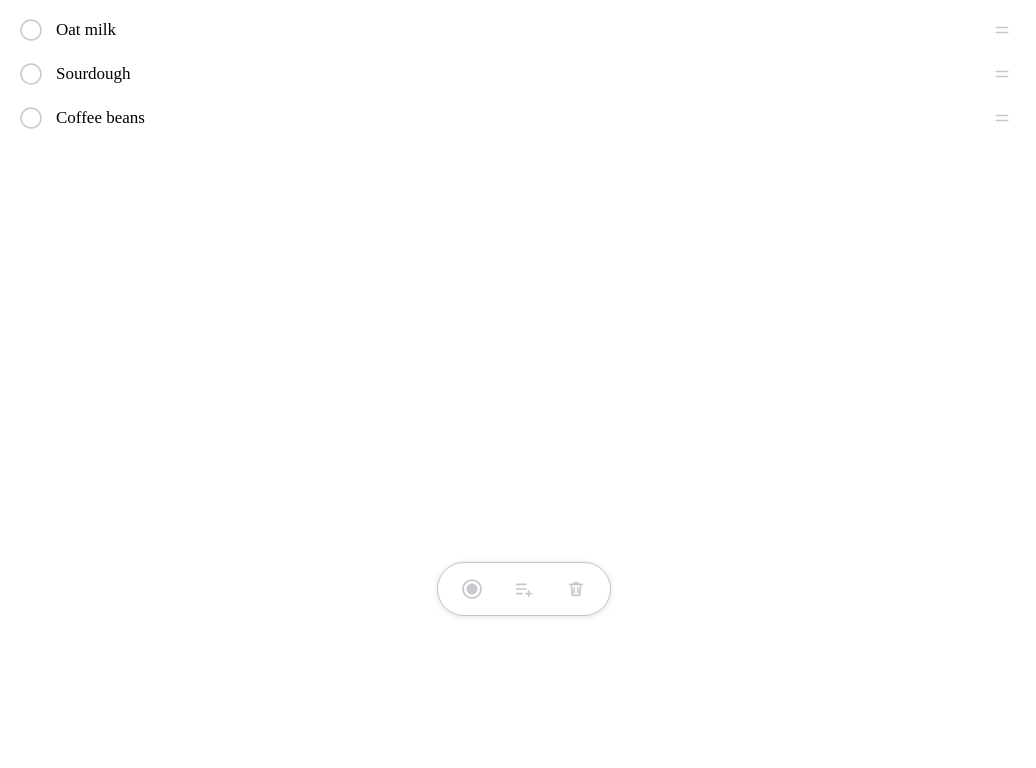
TaskList batch actions in flight (Unit) › holds the rows and the bar still while a batch is in flight
Later steps or results of the test are not shown.
Click the button "Oat milk": (86,30) [56,8,940,52]
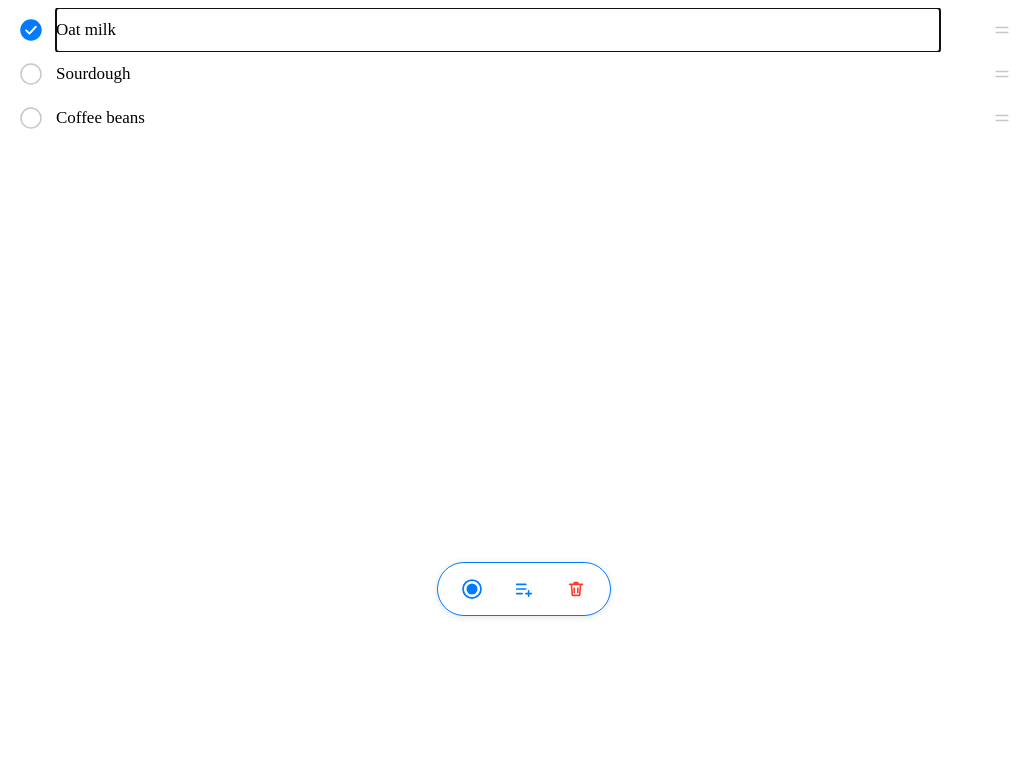
Click the button "Sourdough": (93,74) [56,52,940,96]
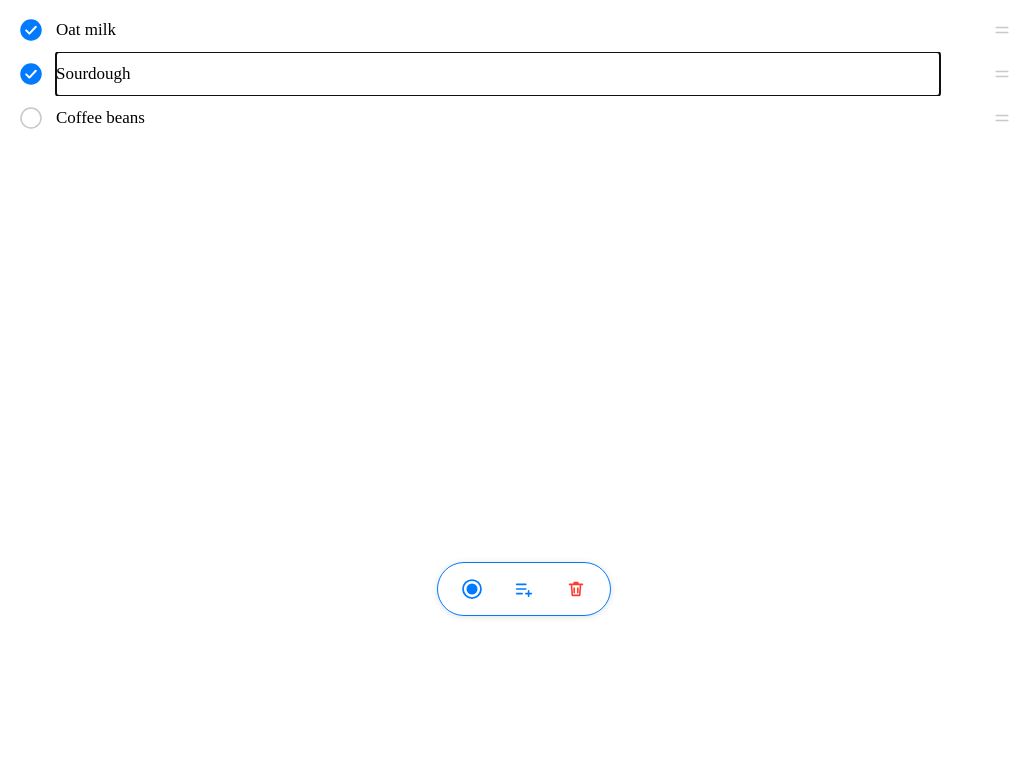
Click the button named "Toggle completion of selected tasks": (472,589) [450,567,494,611]
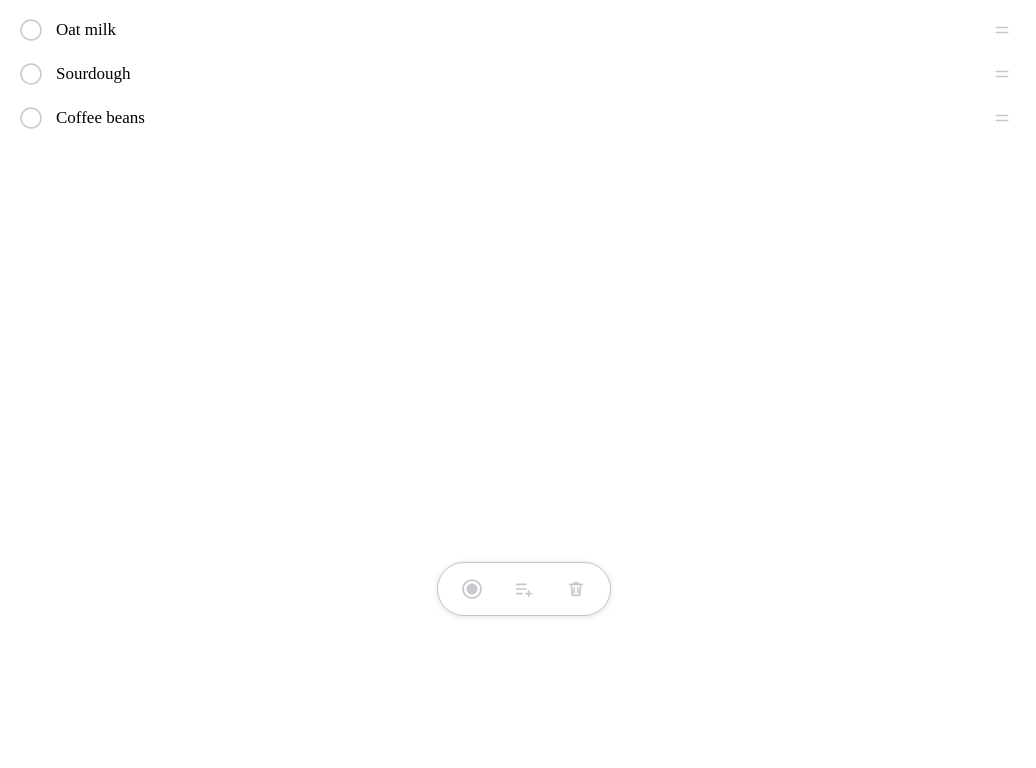
Check: the button named "Toggle completion of selected tasks" is disabled, box [450,567,494,611]
